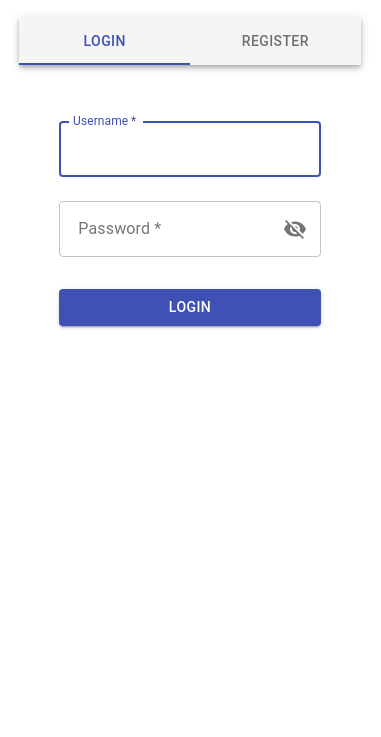
Test: Login Form › submit button must be clickable
The image size is (381, 737).
Click the button with test id "loginButton" at (190, 307), box 59,289 -> 321,326
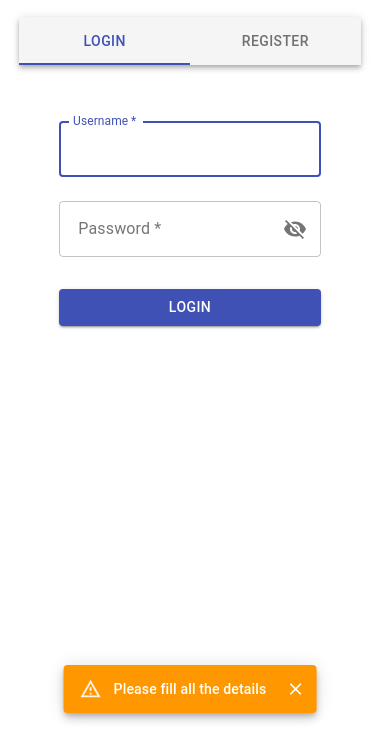
Expected: the text "Please fill all the details" is shown, 114,681 -> 266,697
